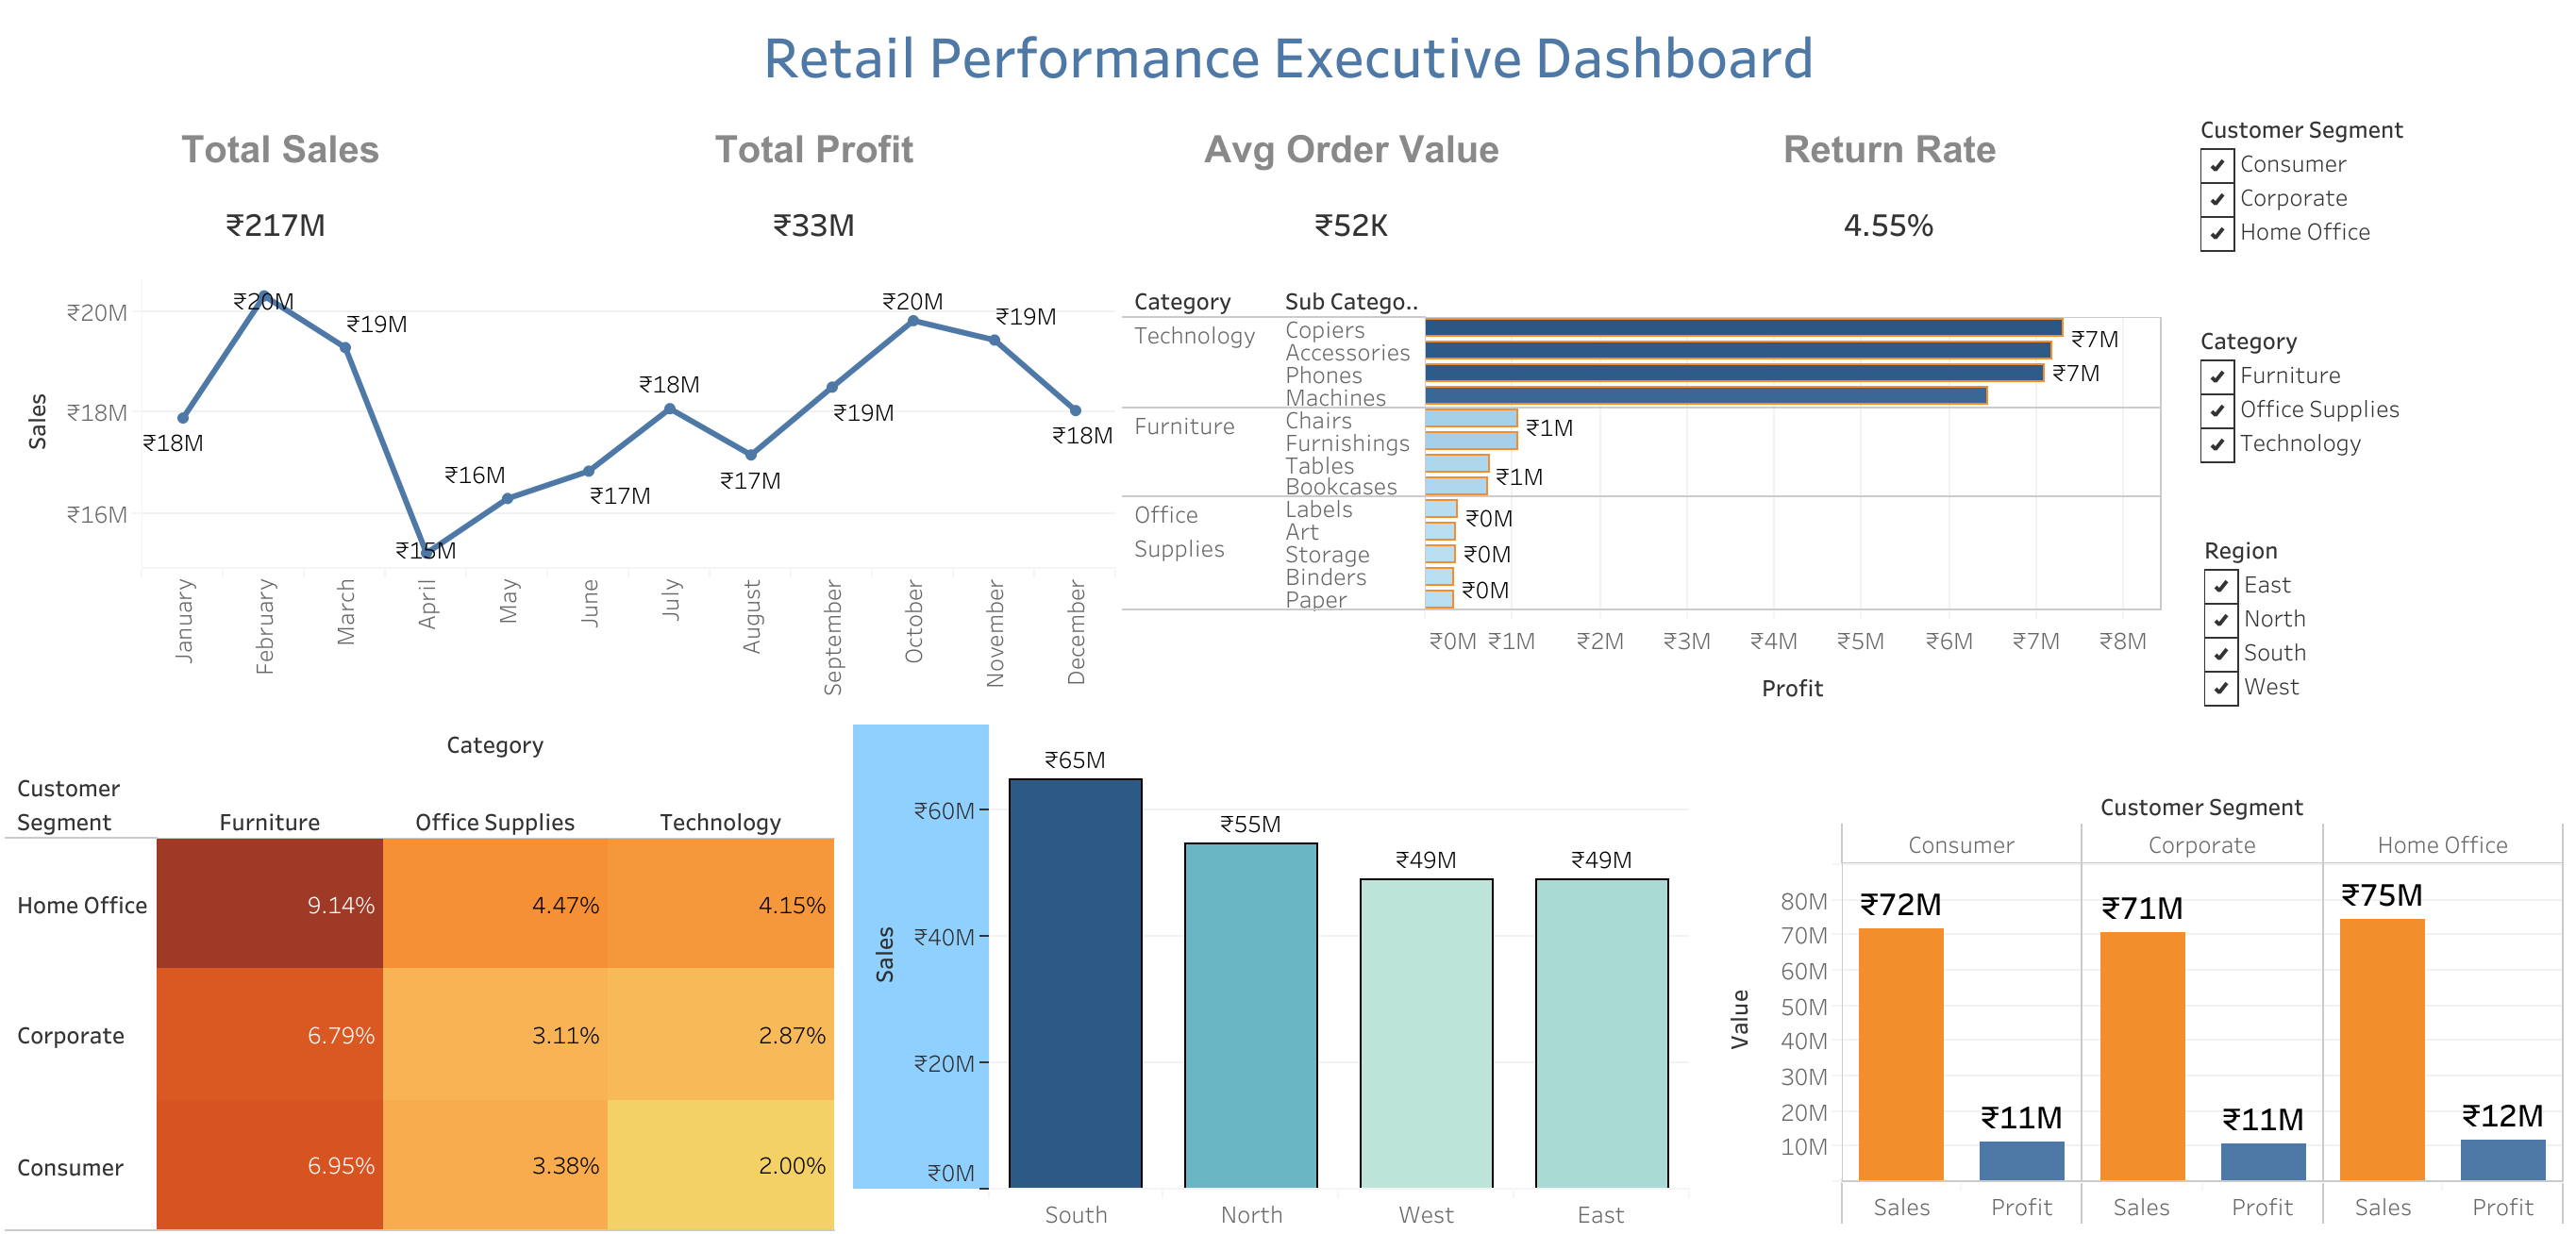

Layout of this report page (visuals, bound fields, positions):
{"tool":"tableau","page":{"name":"Executive Dashboard","canvas":[1000,1000],"units":"permille","ordinal":0},"visuals":[{"type":"title","box":[6.7,12.4,986.6,61.8]},{"type":"worksheet","title":"KPI - Total Sales","mark":"Automatic","box":[2.5,86.8,208.7,130.2]},{"type":"worksheet","title":"KPI - Total Profit","mark":"Automatic","box":[211.2,86.8,208.7,130.2]},{"type":"worksheet","title":"KPI - Average Order Value","mark":"Automatic","box":[419.9,86.8,208.7,130.2]},{"type":"worksheet","title":"KPI - Return Rate","mark":"Automatic","box":[628.6,86.8,208.7,130.2]},{"type":"filter","title":"Customer Segment View","param":"[federated.09ailrv18ro01p176qs0s0siuccw].[none:customer_segment:nk]","box":[853.3,88.4,134.1,162.8]},{"type":"worksheet","title":"Sales Trend View","mark":"Line","rows":["sales"],"cols":["order_date"],"box":[2.5,226.4,430,355]},{"type":"worksheet","title":"Category Profitability View","mark":"Automatic","rows":["category","sub_category"],"cols":["profit"],"box":[435.9,226.4,403.2,355]},{"type":"filter","title":"Return Analysis View","param":"[federated.09ailrv18ro01p176qs0s0siuccw].[none:category:nk]","box":[853.3,258.9,134.1,165.9]},{"type":"filter","title":"Regional Performance View","param":"[federated.09ailrv18ro01p176qs0s0siuccw].[none:region:nk]","box":[855,429.5,133.3,193.8]},{"type":"worksheet","title":"Return Analysis View","mark":"Square","rows":["customer_segment"],"cols":["category"],"box":[2.5,586.1,321.9,410.9]},{"type":"worksheet","title":"Regional Performance View","mark":"Bar","rows":["sales"],"cols":["region"],"box":[331.1,586.1,324.4,409.3]},{"type":"worksheet","title":"Customer Segment View","mark":"Automatic","cols":["customer_segment"],"box":[662.2,637.2,332.8,353.5]}]}

Visuals, with their boxes on the dashboard's canvas, which has no fixed pixel size, in thousandths of its width and height (x1, y1, x2, y2). These are canvas units, not pixel positions in the 2576x1234 screenshot, which may show the page scaled, cropped or inside an application window:
title: locate(7, 12, 993, 74)
"KPI - Total Sales" worksheet: locate(2, 87, 211, 217)
"KPI - Total Profit" worksheet: locate(211, 87, 420, 217)
"KPI - Average Order Value" worksheet: locate(420, 87, 629, 217)
"KPI - Return Rate" worksheet: locate(629, 87, 837, 217)
"Customer Segment View" filter: locate(853, 88, 987, 251)
"Sales Trend View" worksheet (Line marks): locate(2, 226, 432, 581)
"Category Profitability View" worksheet: locate(436, 226, 839, 581)
"Return Analysis View" filter: locate(853, 259, 987, 425)
"Regional Performance View" filter: locate(855, 430, 988, 623)
"Return Analysis View" worksheet (Square marks): locate(2, 586, 324, 997)
"Regional Performance View" worksheet (Bar marks): locate(331, 586, 656, 995)
"Customer Segment View" worksheet: locate(662, 637, 995, 991)
